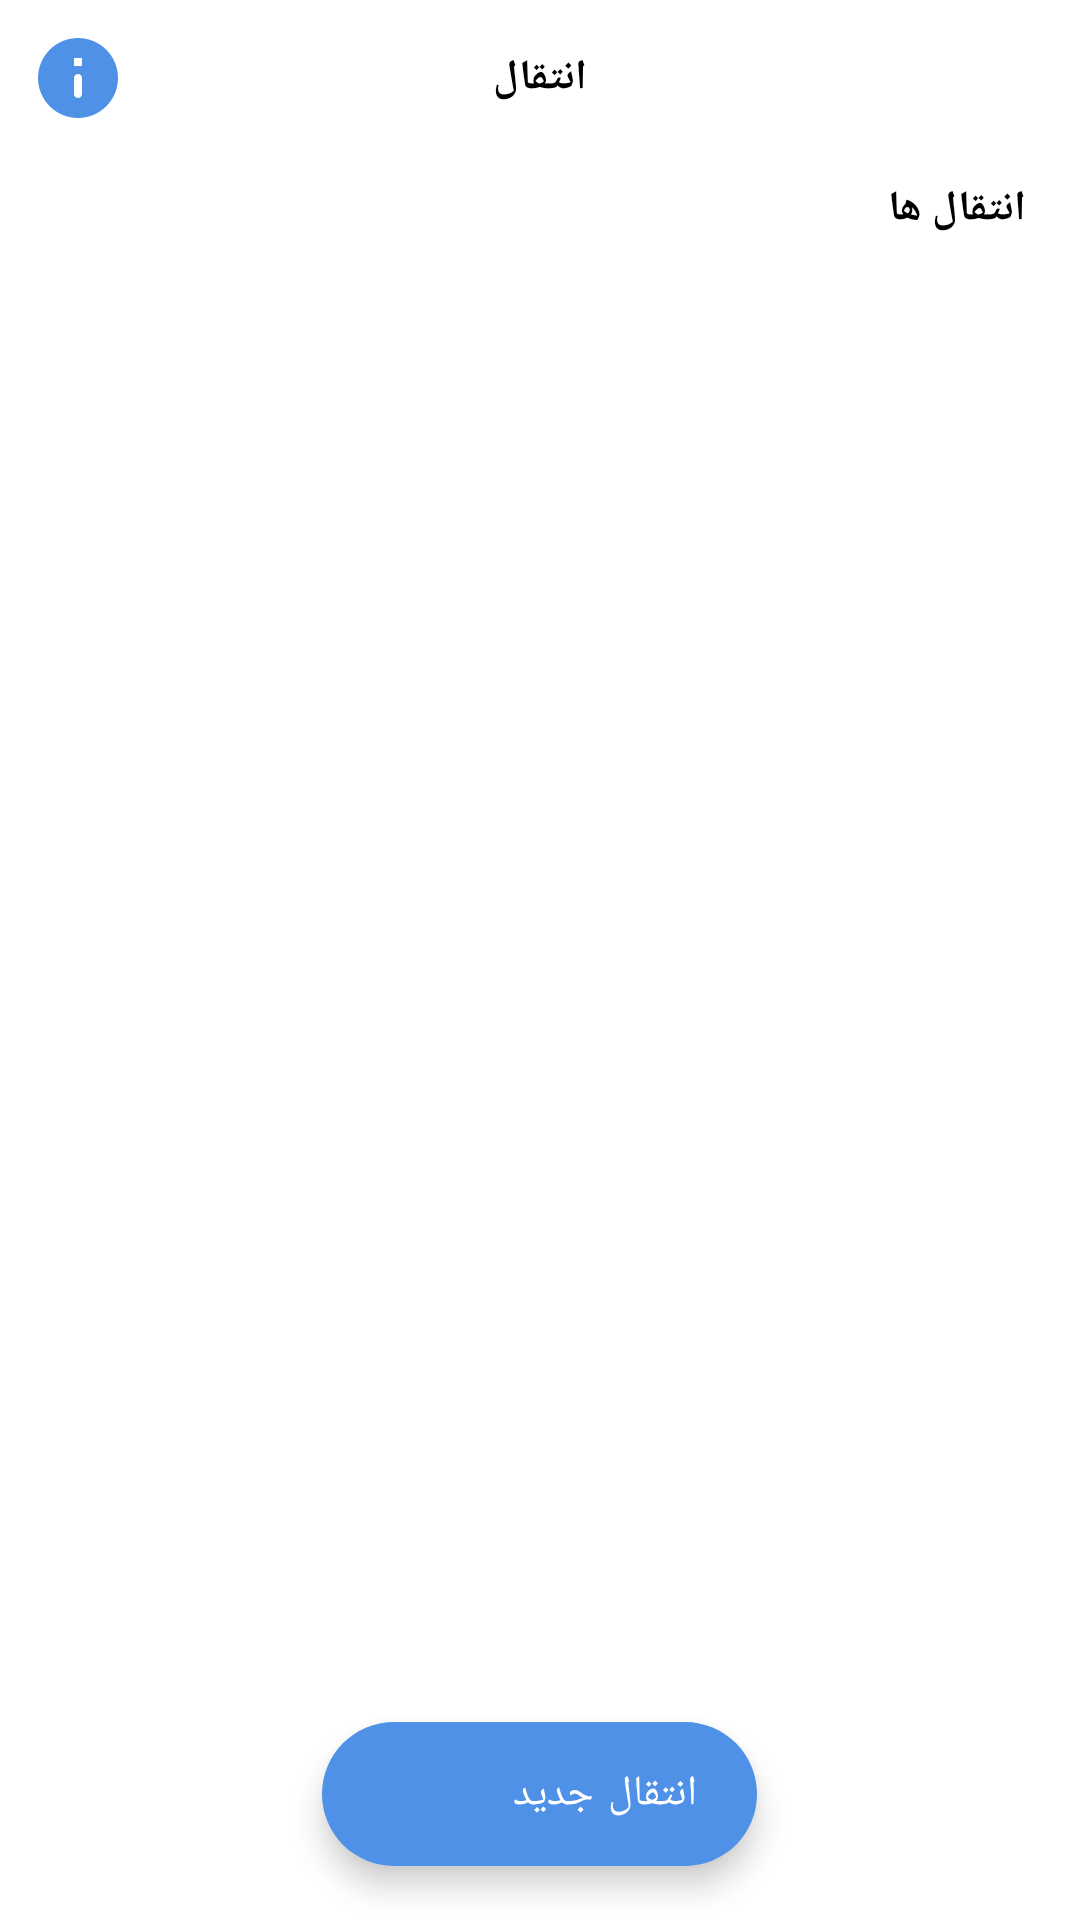

Point at icon controls on the screen. Image size 1080 x 1920, points as (x=x, y=y).
info: (x=78, y=78)
